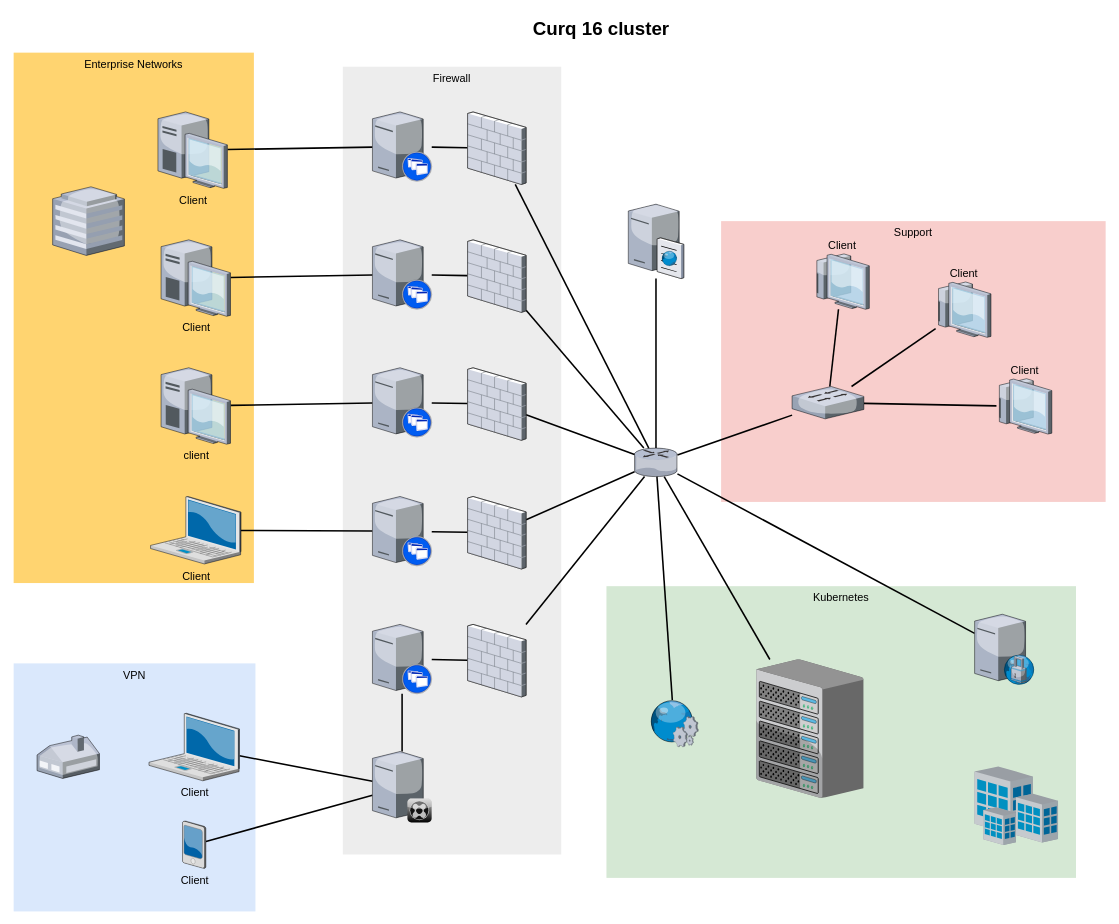
The diagram is 1119 pixels wide and 924 high, and some of its shapes have lost their labels. The centre of each missing label's shape, as x and y in pixels:
Cluster: the point at 1004,649
DNS: the point at 809,728
Web Server: the point at 655,240
Web service: the point at 673,723
